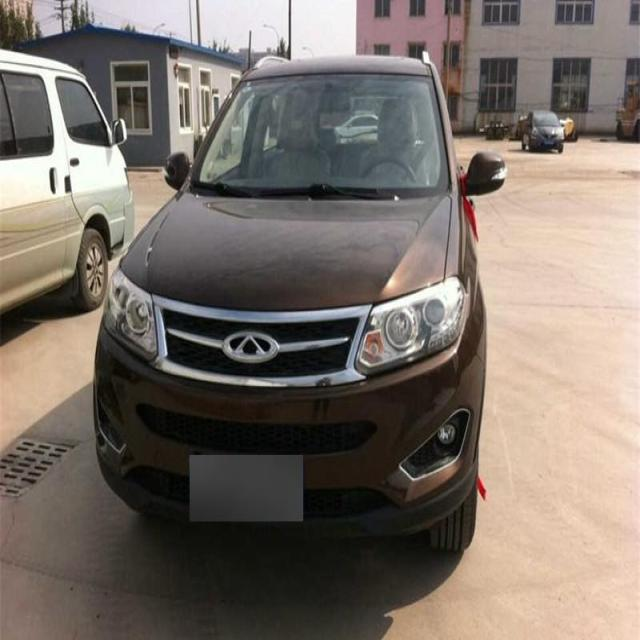front_bumper: (91, 319, 484, 530)
front_glass: (195, 69, 447, 195)
front_left_side_light: (351, 274, 468, 384)
front_left_side_mirror: (459, 147, 507, 200)
front_right_side_light: (98, 264, 160, 368)
front_right_side_mirror: (163, 148, 190, 197)
